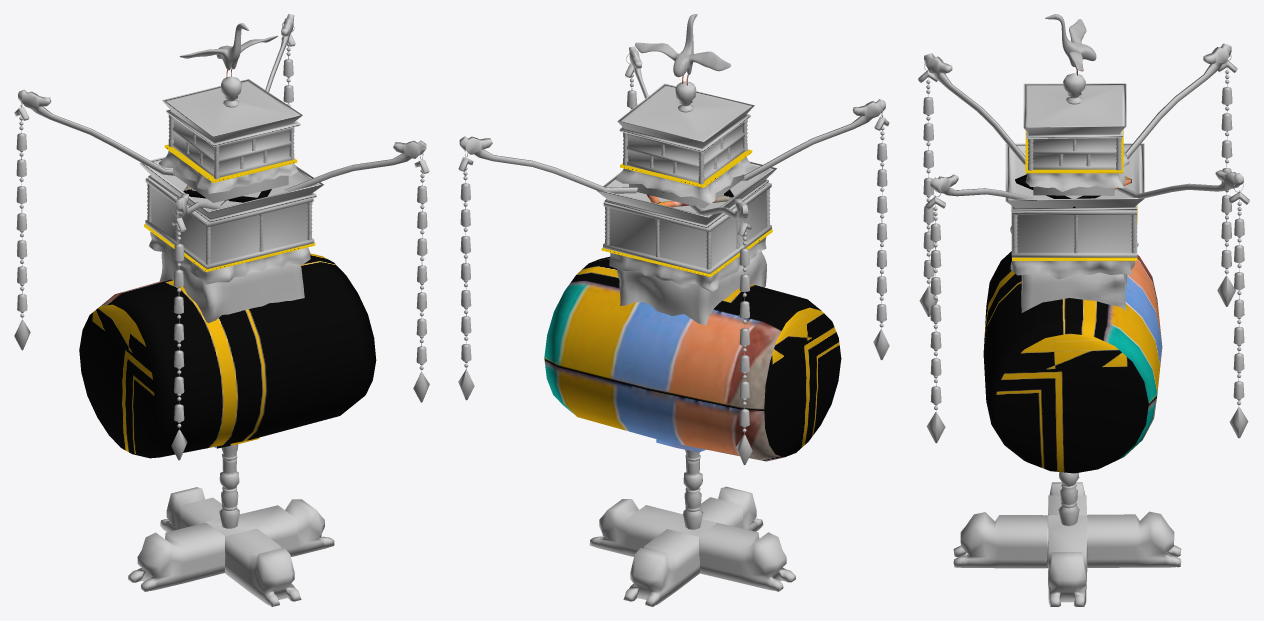
File: SM_Gundrum_2.FBX
3 views of the same model, side by side, from view 1: azimuth 30°, elevation 25°; view 2: azimuth 150°, elevation 25°; view 3: azimuth 270°, elevation 25° (orthographic).
Visible parts, largest first — view 1: SM_Gundrum_2; view 2: SM_Gundrum_2; view 3: SM_Gundrum_2.
Part boxes in pixels (x1,y1,x2,y2): SM_Gundrum_2: (14,14,429,606); SM_Gundrum_2: (458,14,889,606); SM_Gundrum_2: (918,14,1249,606).
Bounding box in the file's own units: 187 × 337 × 184.
